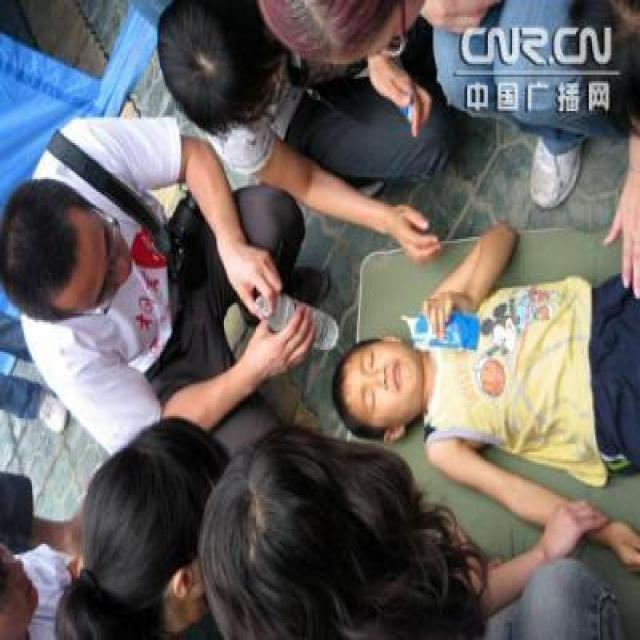fall: (333, 196, 640, 630)
